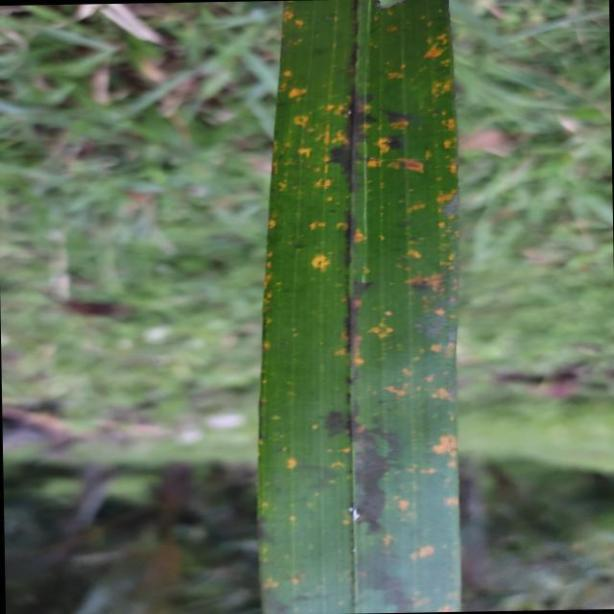Healthy: (254, 0, 464, 614)
